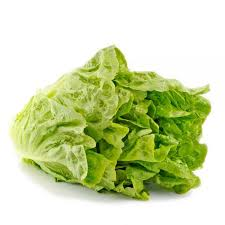Lettuce: (11, 48, 209, 210)
